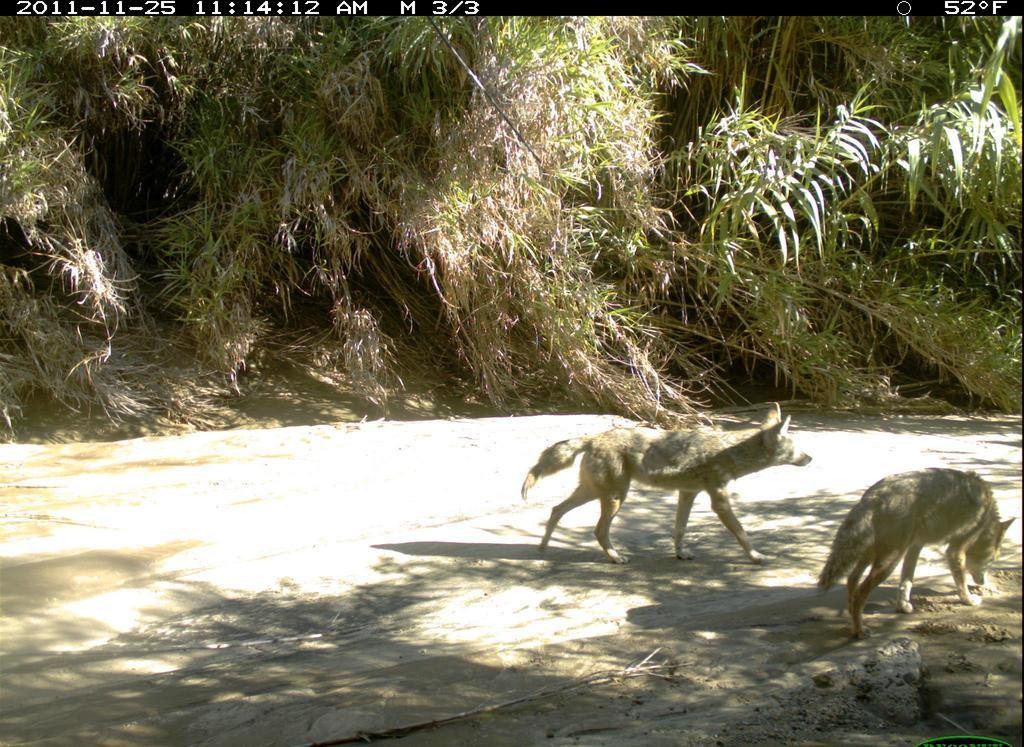coyote: (521, 396, 808, 571), (818, 459, 1014, 625)
